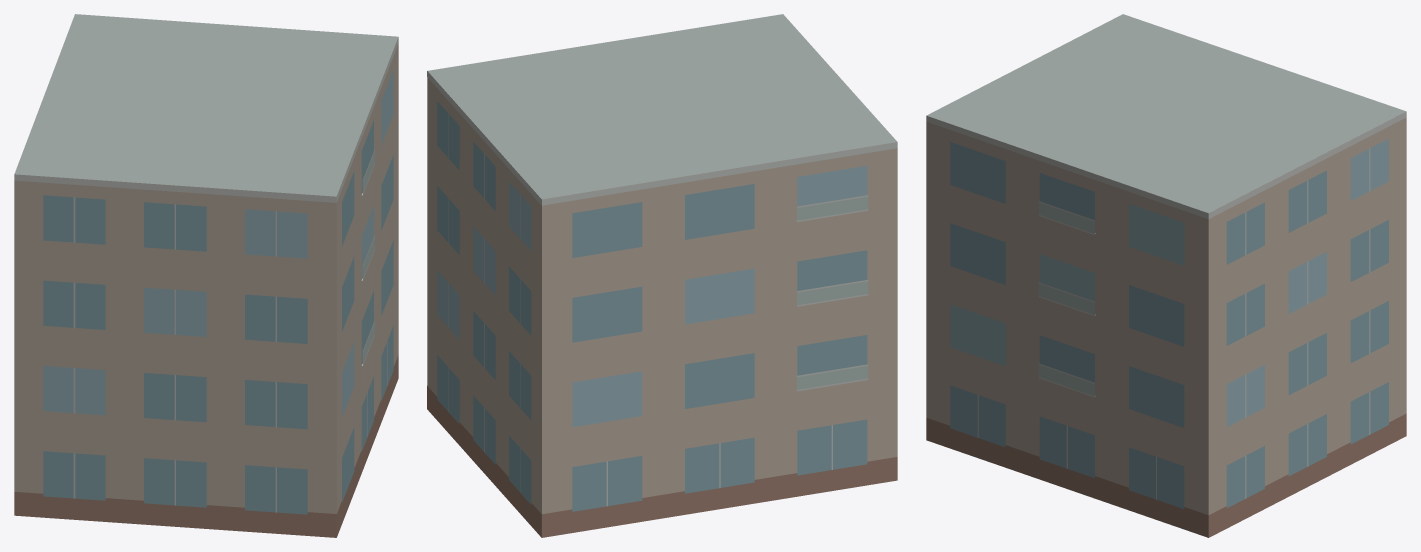
File: survey-upis-32708711.glb
The picture shows the model from 3 angles, left to right: view 1: azimuth 30°, elevation 25°; view 2: azimuth 150°, elevation 25°; view 3: azimuth 270°, elevation 25°; orthographic projection. The views are drawn at different scales.
Visible parts, largest first — view 1: survey-upis-32708711.tmp; view 2: survey-upis-32708711.tmp; view 3: survey-upis-32708711.tmp.
Boxes of the visible parts, x1,y1,x2,y2 form: survey-upis-32708711.tmp: (14, 14, 398, 537); survey-upis-32708711.tmp: (427, 14, 897, 537); survey-upis-32708711.tmp: (926, 14, 1406, 537).
Bounding box in the file's own units: 17.59 × 13.35 × 17.91.
